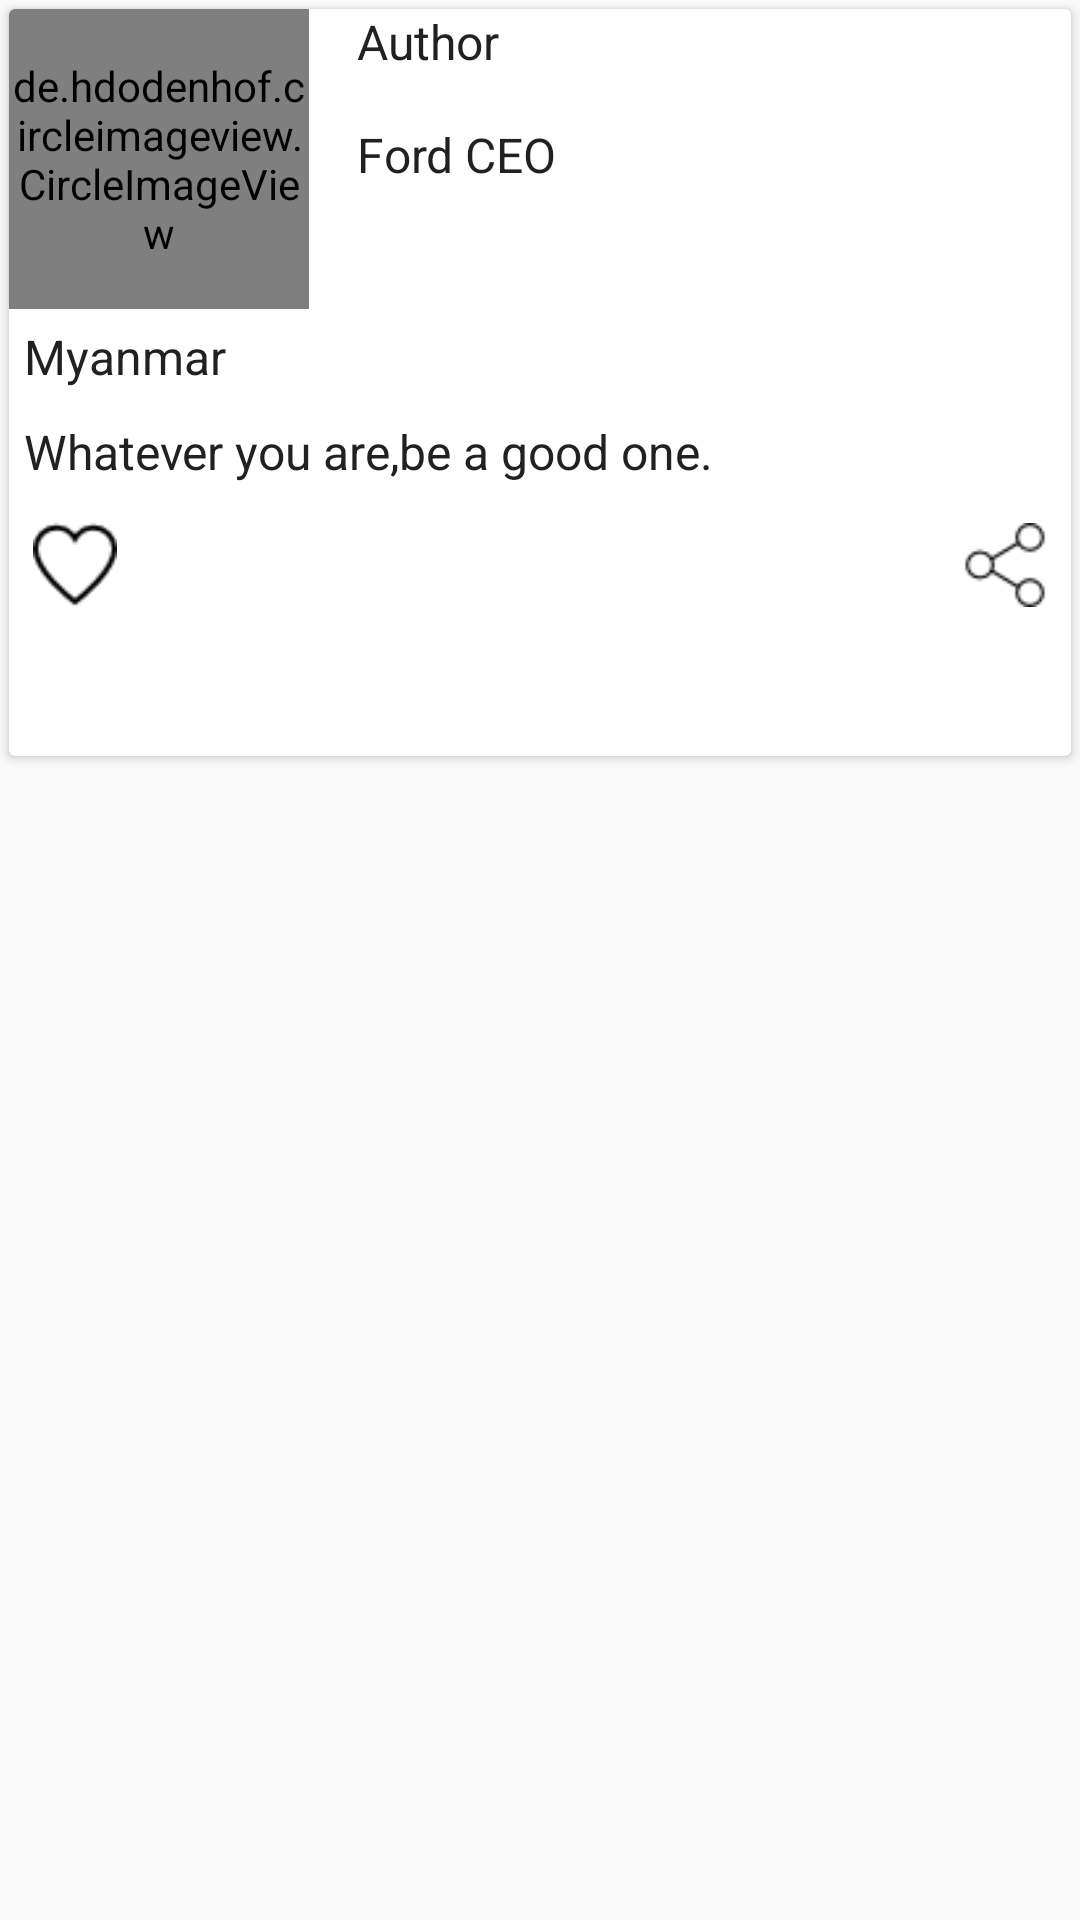

Screen size 1080w x 1920h. Icon name, then its box in pixels as box=[x1, y1, x2, y2]:
btnshare: box=[965, 523, 1045, 607]
